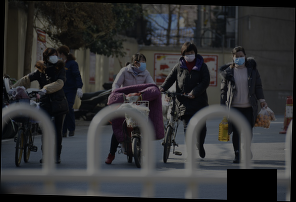with_mask: (183, 49, 196, 63), (136, 58, 148, 71), (233, 53, 246, 65), (48, 52, 59, 63)
